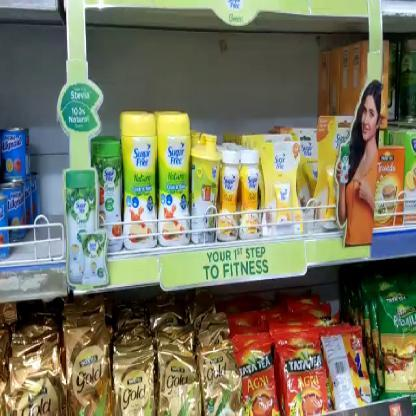SUGAR FREE GOLD 500 PELLET: (262, 140, 302, 236)
SUGAR FREE GOLD POWDER 100GM: (218, 149, 240, 242), (240, 148, 260, 238)
SUGAR FREE NATURA DIET SUGAR 80GM: (121, 111, 157, 253), (158, 111, 192, 241)
SUGAR FREE_GRN_ POWDER_CONC_100G: (96, 137, 124, 252)
